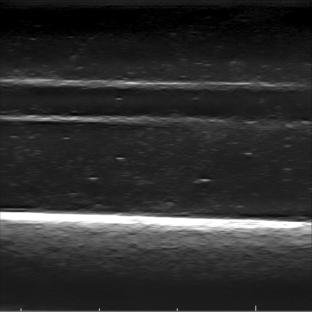vessel: (4, 79, 308, 128)
